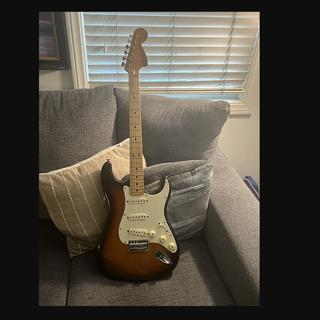Fender Stratocaster: (94, 27, 181, 283)
SSS: (124, 193, 152, 242)
